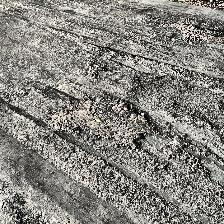pothole: (47, 91, 162, 151), (159, 16, 223, 44), (160, 134, 192, 158), (84, 62, 110, 78)
